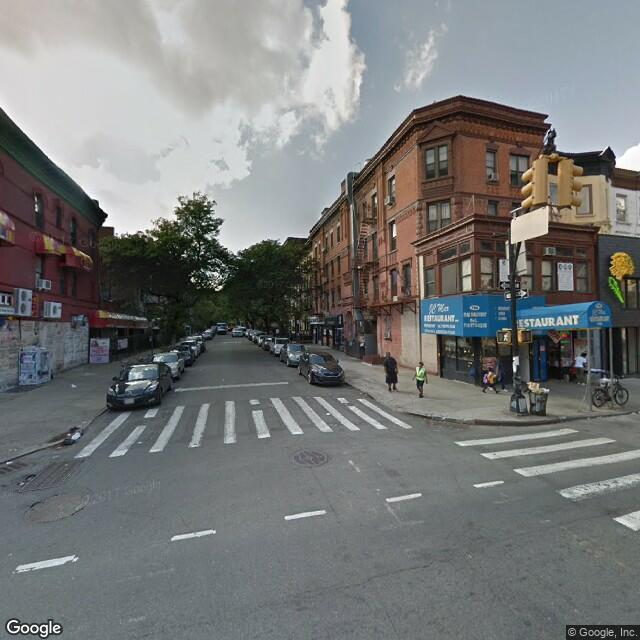litter: (63, 425, 87, 449), (3, 458, 24, 467), (440, 413, 450, 425), (323, 409, 333, 418), (9, 446, 22, 452), (69, 380, 76, 389), (136, 439, 142, 449), (633, 410, 640, 416), (358, 392, 363, 395)
